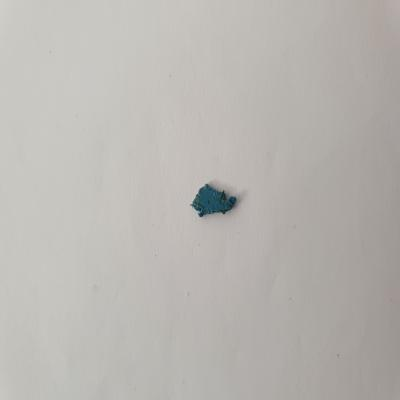plastic: (184, 183, 241, 222)
